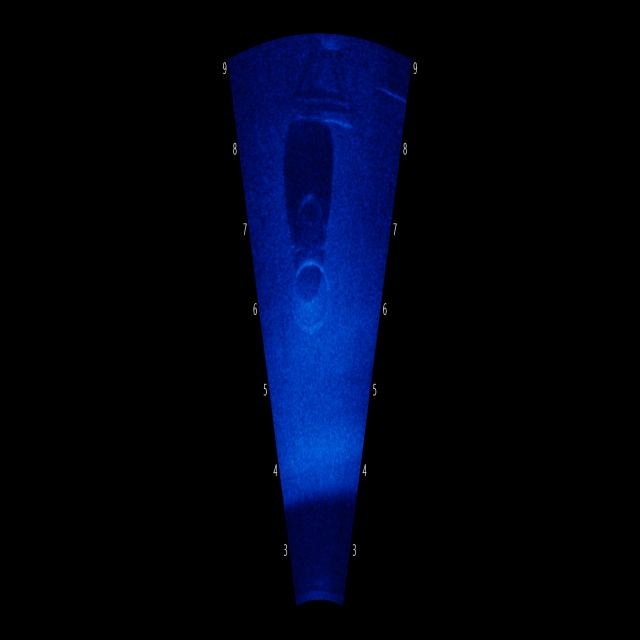circle: (282, 206, 344, 364)
triangle: (275, 37, 367, 151)
